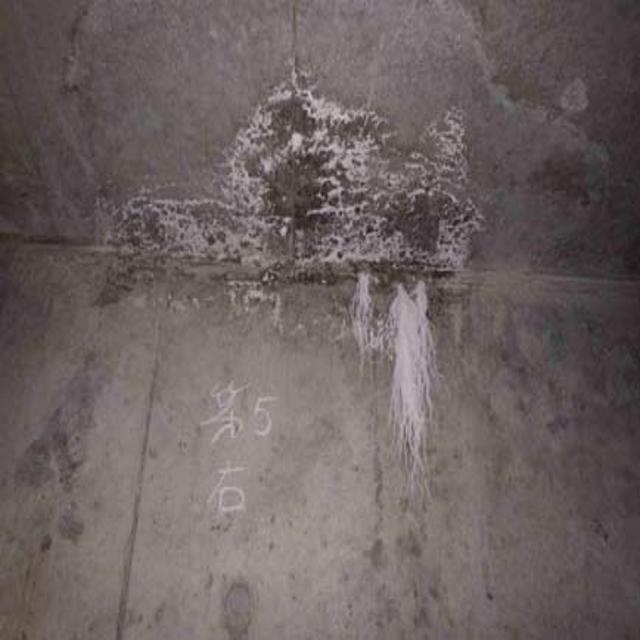freelime: (136, 74, 514, 259), (348, 273, 466, 443)
